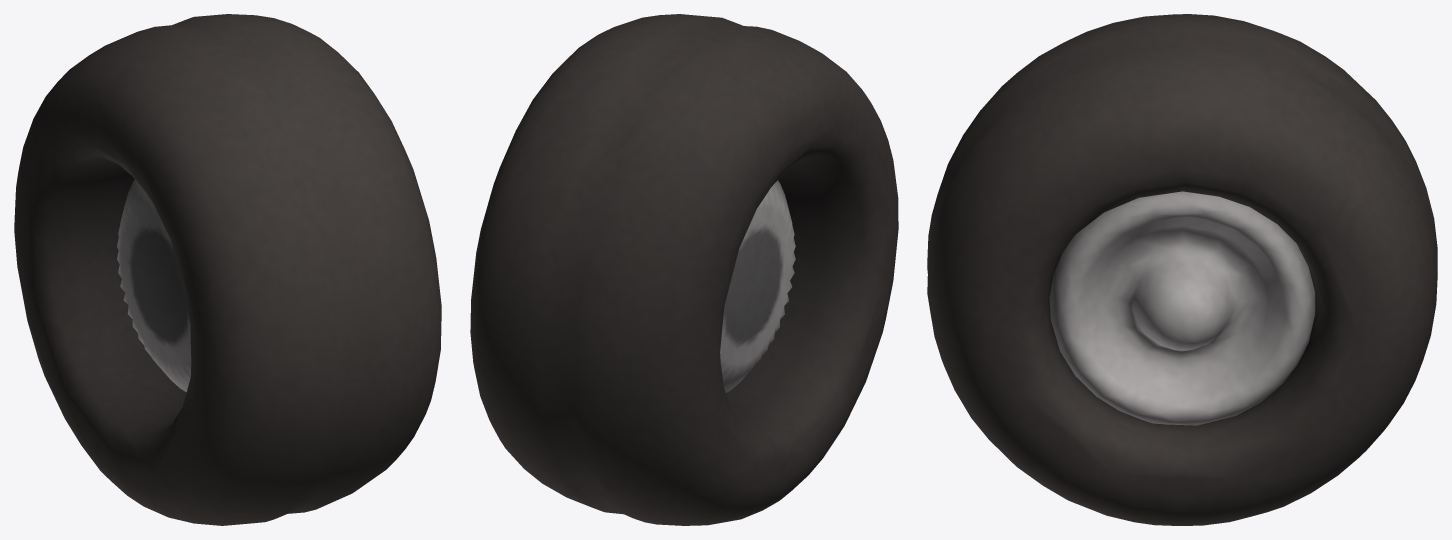
3 views of the same model, side by side, from view 1: azimuth 30°, elevation 25°; view 2: azimuth 150°, elevation 25°; view 3: azimuth 270°, elevation 25° (orthographic).
Parts seen in each view (by area): view 1: wheel_FL; view 2: wheel_FL; view 3: wheel_FL.
Boxes of the visible parts, x1,y1,x2,y2 form: wheel_FL: [14, 14, 441, 525]; wheel_FL: [470, 14, 898, 525]; wheel_FL: [927, 14, 1437, 525].
Bounding box in the file's own units: 0.1996 × 0.3773 × 0.377.
1 material, 1 textured.
